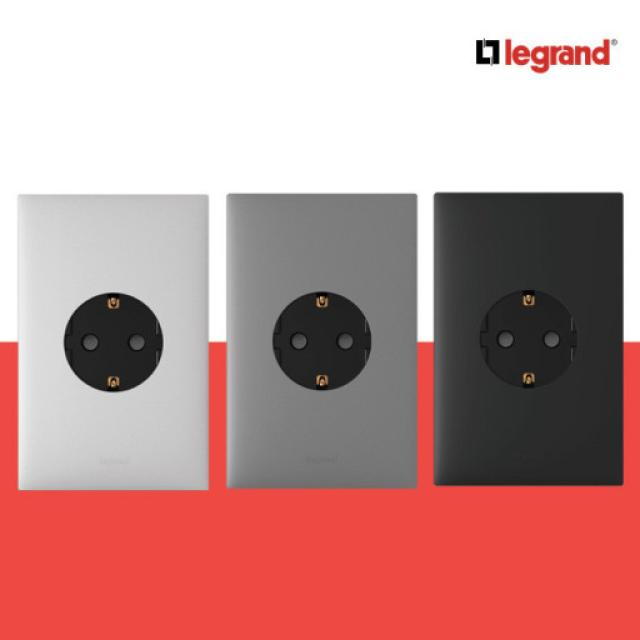typeb: (213, 176, 428, 494), (8, 182, 219, 503), (431, 179, 630, 493)
